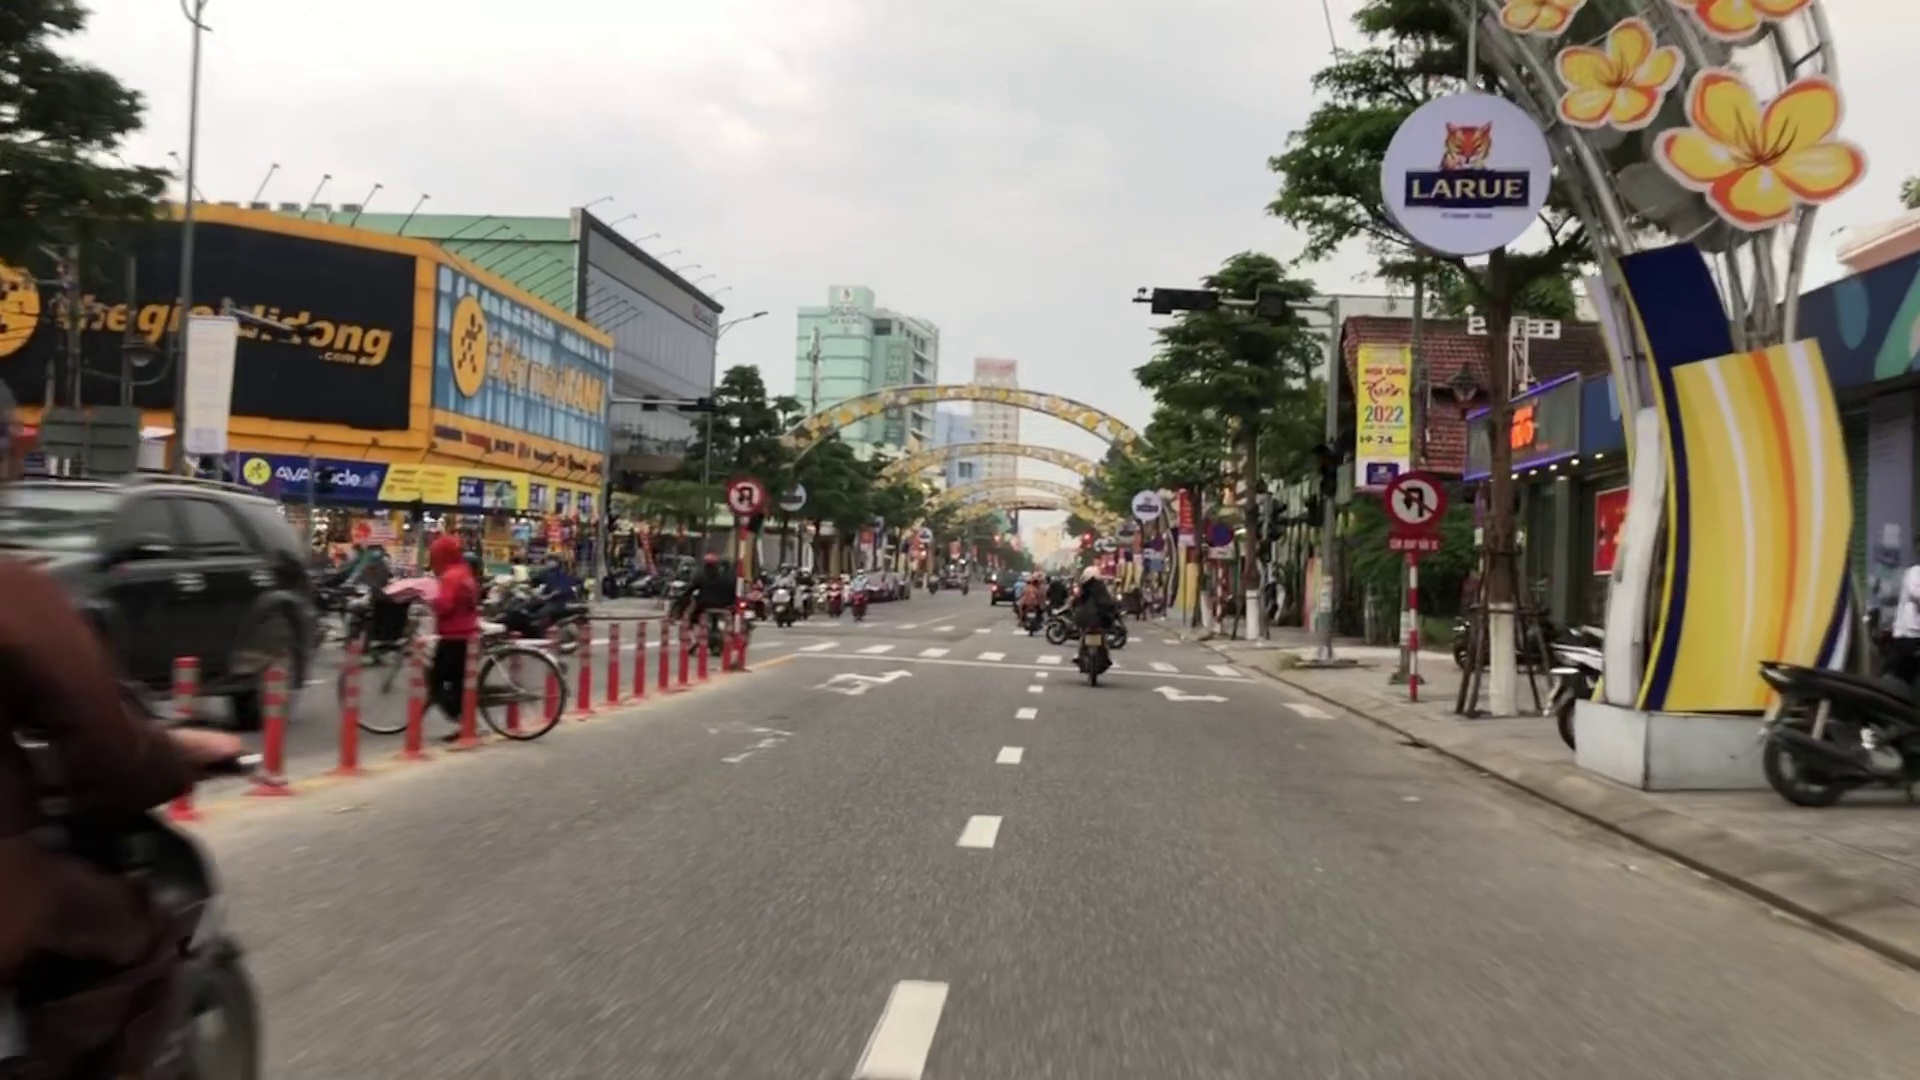Bien khac: (1389, 473, 1443, 534), (731, 477, 760, 513)
Cam do xe: (1207, 516, 1236, 554)
